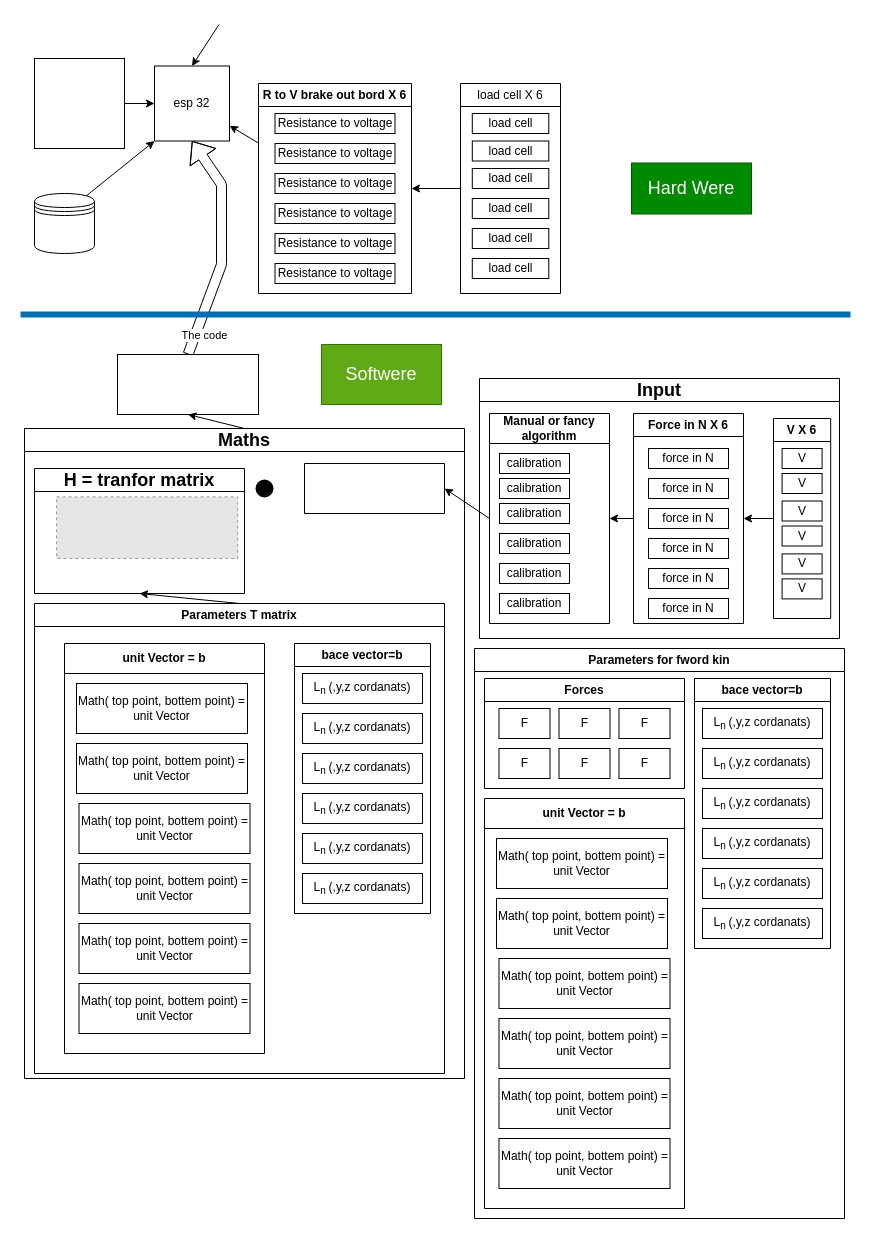
The diagram is 871 pixels wide and 1236 high, and some of its shapes have lost their labels. Grey dashed boxes stand in for pictures. Here are the shapes that lost their labels. From the top down, the centre of each, then its label:
point (79, 103): laptop
point (64, 223): store if no laptop
point (187, 384): 6D force vector
point (374, 488): force vector
